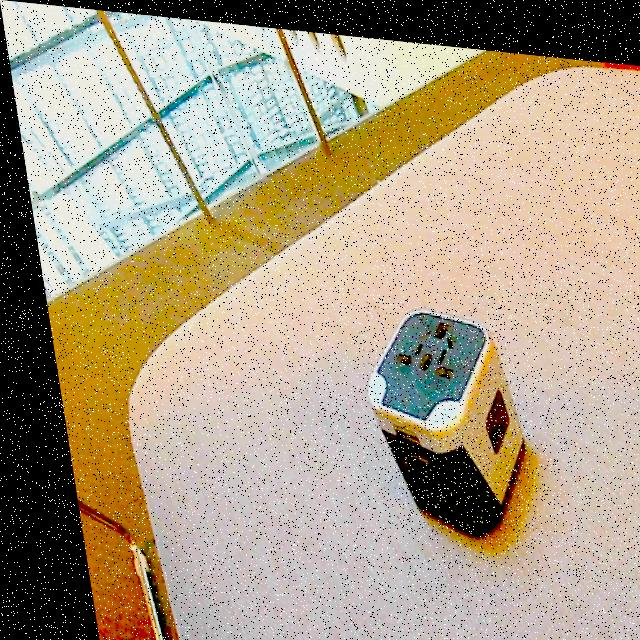adapter: (343, 292, 525, 535)
